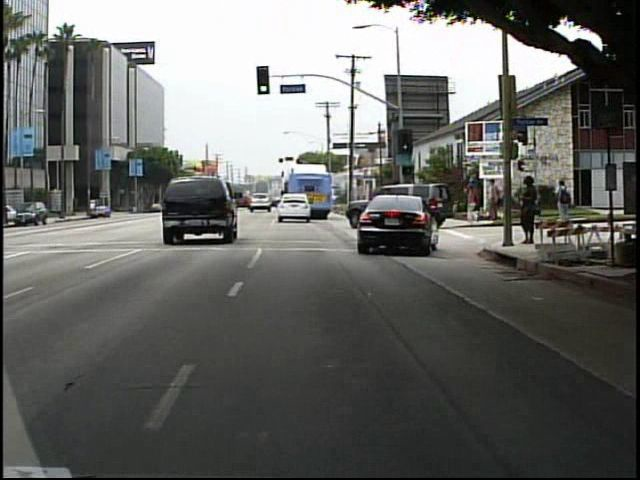person: (516, 171, 540, 251), (463, 179, 485, 228), (553, 179, 575, 221), (485, 178, 501, 222)
